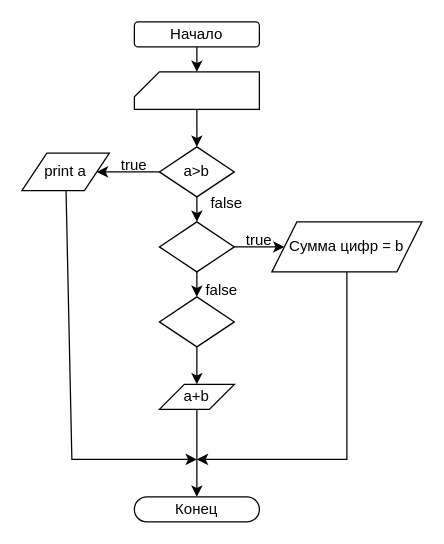
Image size: 444x544. Some labels were removed from this diagram. Here are the shapes that lost their labels. From the top down, the box of each, then its label:
(133, 71, 259, 109): a,b
(158, 221, 234, 272): a=b
(158, 296, 234, 347): a<b
